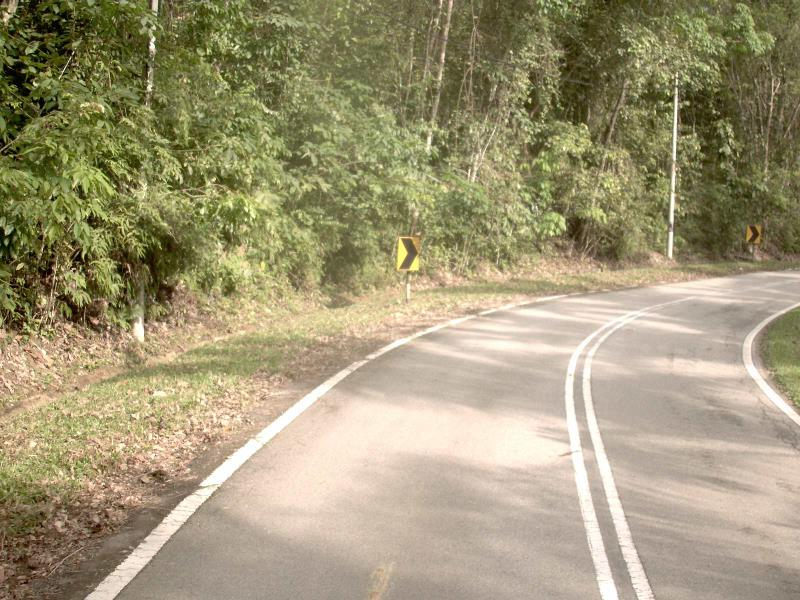traffic_sign: (388, 226, 429, 284)
